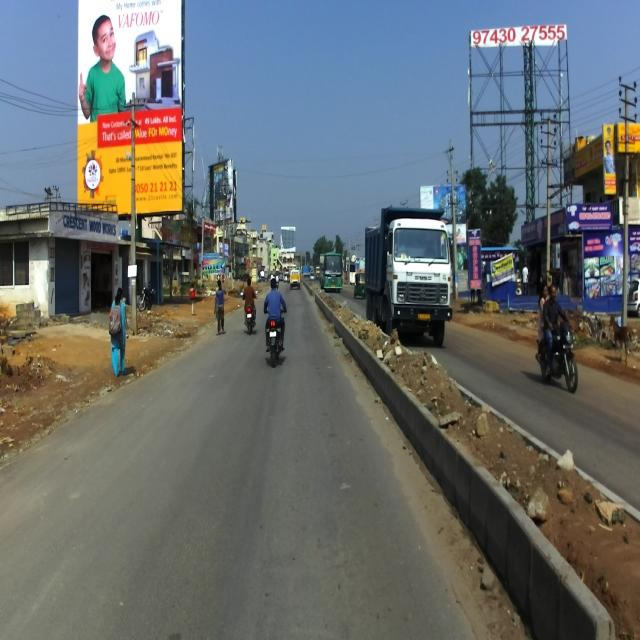bus: (318, 250, 343, 292)
motorcycle_bajaj: (535, 321, 578, 393), (263, 310, 285, 366)
truck: (363, 204, 452, 345)
